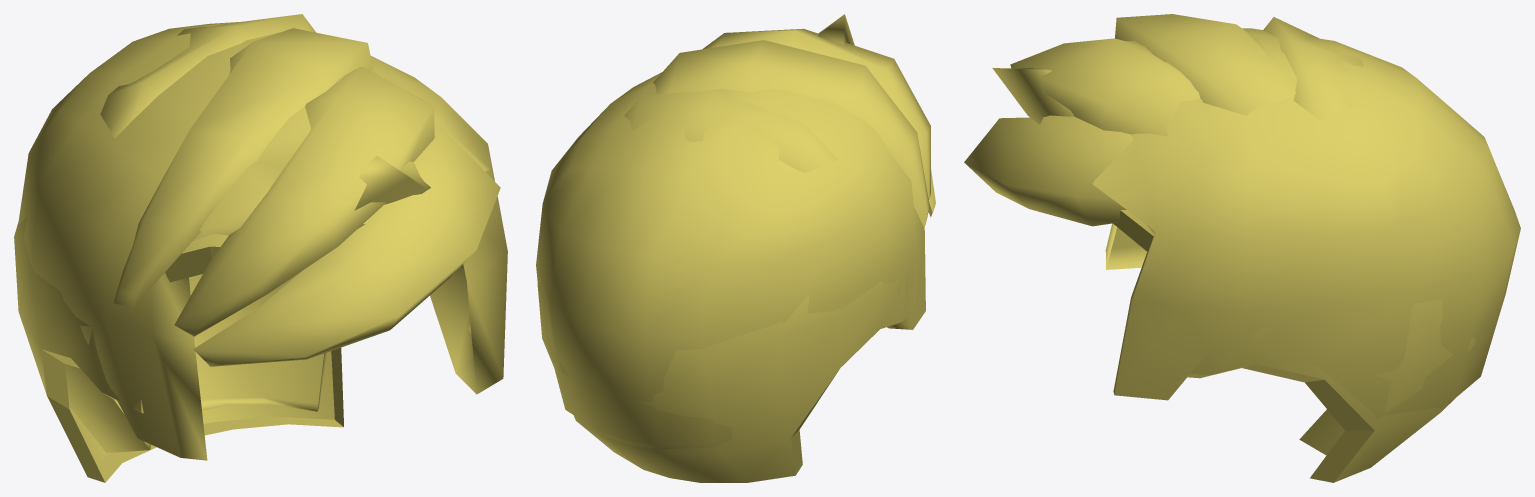
File: CharacterHairs.fbx
3 views of the same model, side by side, from view 1: azimuth 30°, elevation 25°; view 2: azimuth 150°, elevation 25°; view 3: azimuth 270°, elevation 25° (orthographic). The views are drawn at different scales.
Visible parts, largest first — view 1: HairM01, HairM02; view 2: HairM02, HairM01; view 3: HairM02, HairM01.
Part boxes in pixels (x1,y1,x2,y2): HairM01: (14,14,500,482); HairM02: (18,21,507,460); HairM02: (536,14,925,449); HairM01: (537,28,935,482); HairM02: (992,28,1520,455); HairM01: (964,14,1476,482).
Bounding box in the file's own units: 25.43 × 27.88 × 34.85.
